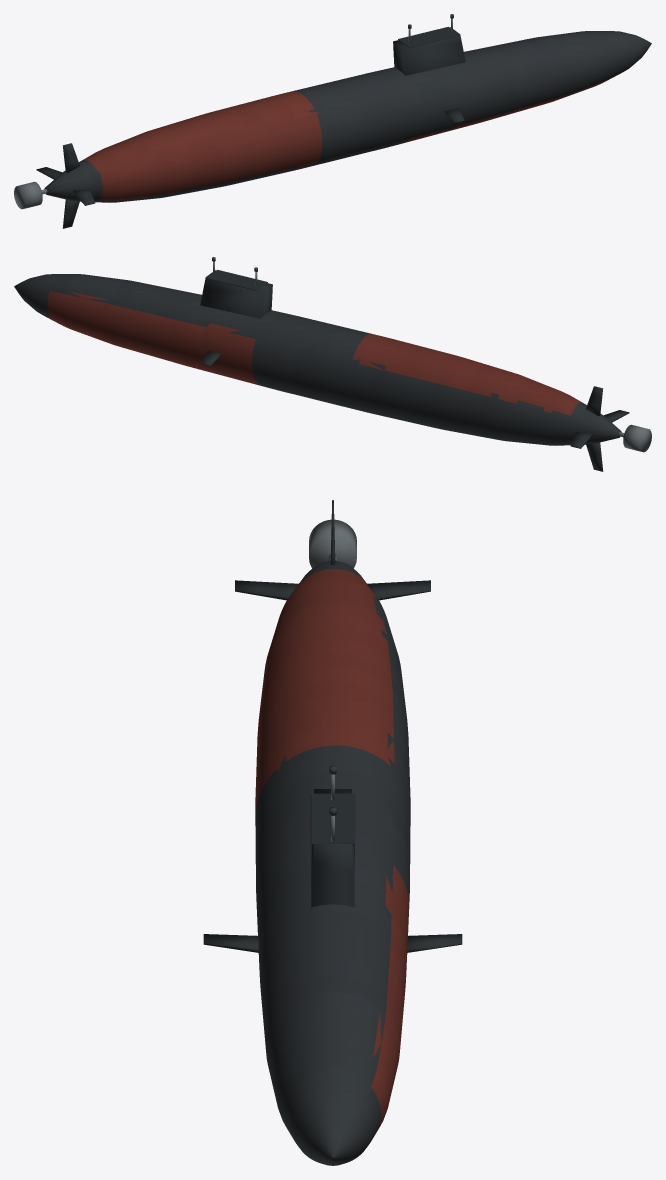
The model's file is US_SSN_Seawolf_LOD1.fbx.
3 renders of one model, top to bottom at view 1: azimuth 30°, elevation 25°; view 2: azimuth 150°, elevation 25°; view 3: azimuth 270°, elevation 25°, orthographic. The views are drawn at different scales.
Parts seen in each view (by area): view 1: US_SSN_Seawolf_LOD1; view 2: US_SSN_Seawolf_LOD1; view 3: US_SSN_Seawolf_LOD1.
Boxes of the visible parts, x1=… form: US_SSN_Seawolf_LOD1: x1=14, y1=14, x2=651, y2=228; US_SSN_Seawolf_LOD1: x1=14, y1=257, x2=651, y2=471; US_SSN_Seawolf_LOD1: x1=203, y1=500, x2=462, y2=1165.
Bounding box in the file's own units: 113 × 19.99 × 20.26.
6 materials, 1 textured.
